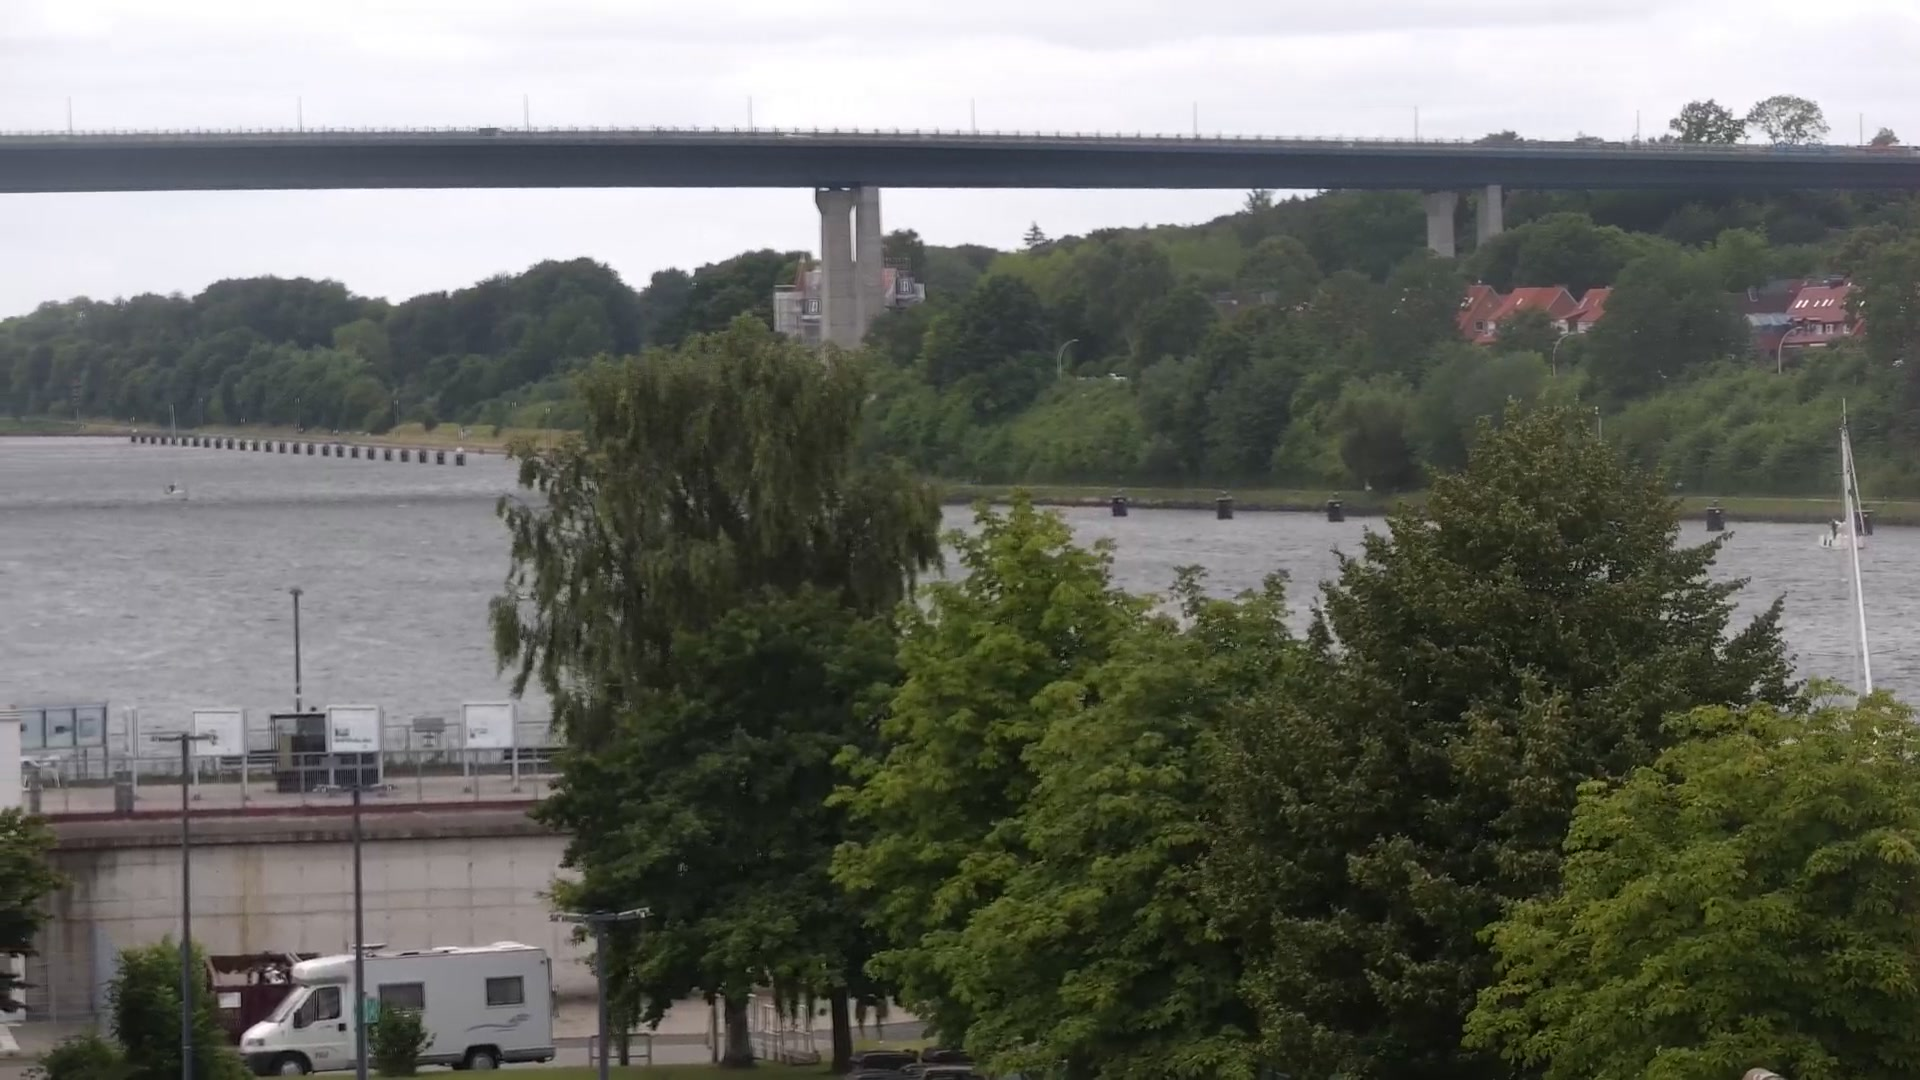land: (235, 939, 555, 1076)
sea: (1816, 392, 1866, 551), (160, 400, 185, 496)
